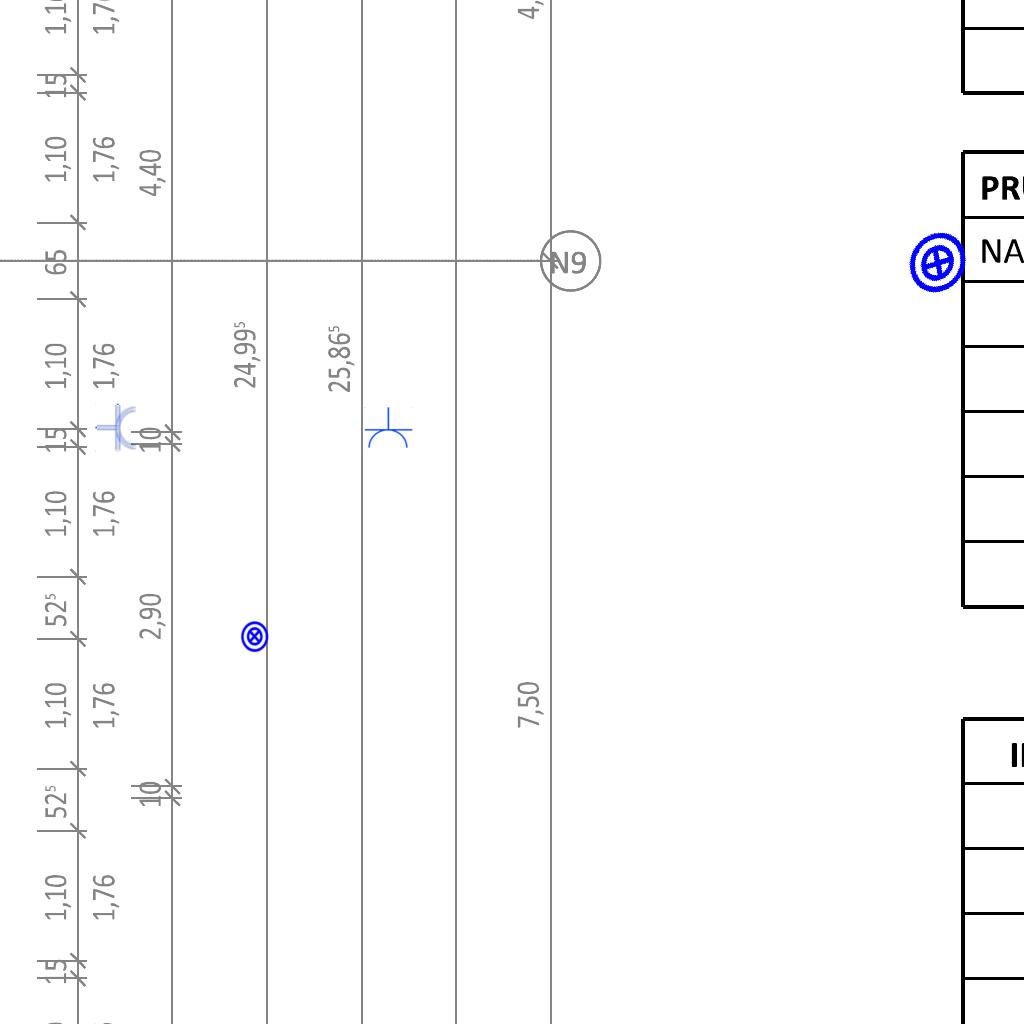Schukosteckdose_einfach: (95, 403, 138, 453), (363, 407, 413, 450)
Taster_beleuchtet: (892, 217, 984, 309), (238, 620, 271, 653)
